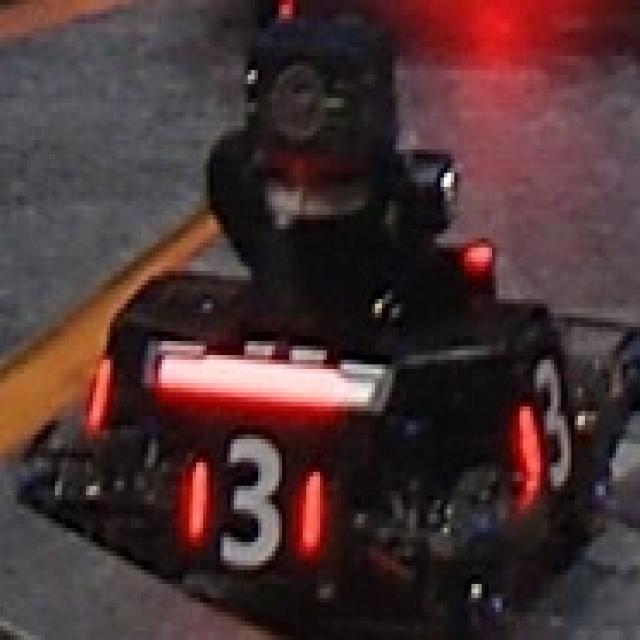R3: (182, 425, 327, 575), (516, 346, 578, 504)
